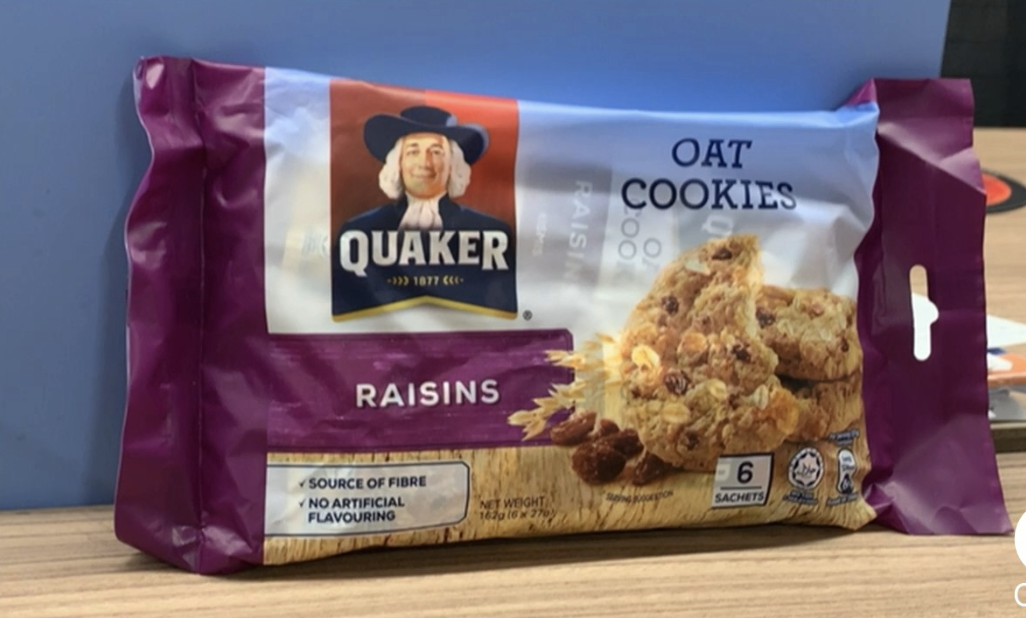cookies_150g: (246, 111, 865, 518)
